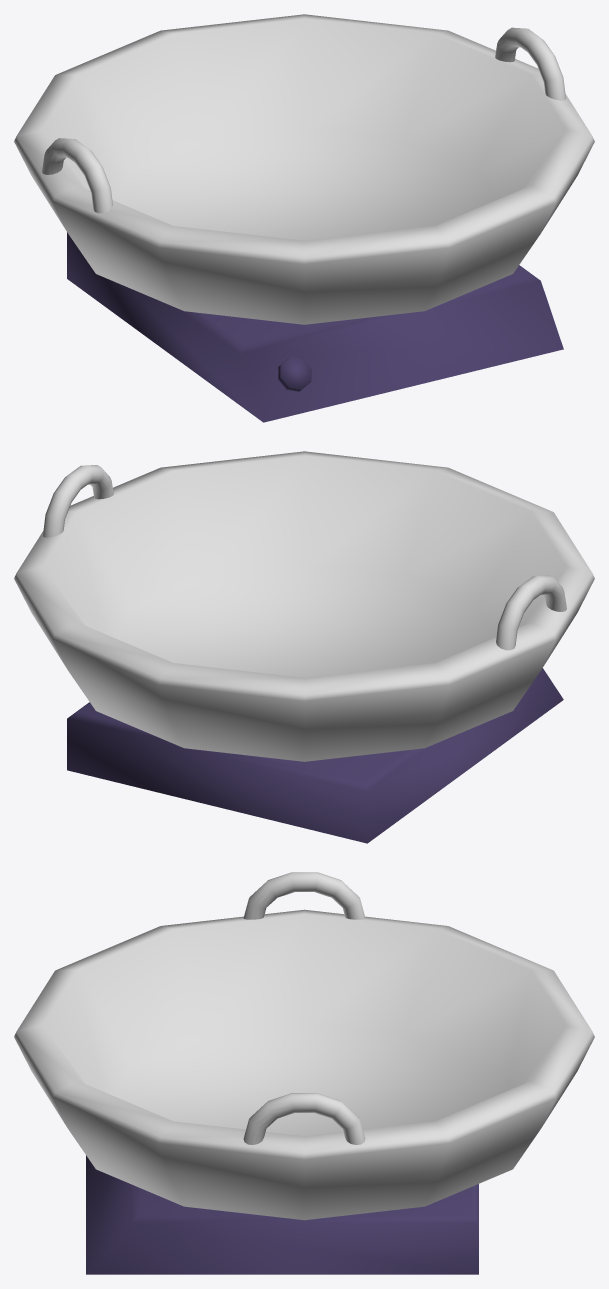
Rendered from Pan.fbx.
3 views of the same model, one above another, from view 1: azimuth 30°, elevation 25°; view 2: azimuth 150°, elevation 25°; view 3: azimuth 270°, elevation 25° (orthographic).
Visible parts, largest first — view 1: pan; view 2: pan; view 3: pan.
Part boxes in pixels (bbox=[...]): pan: bbox=[14, 14, 594, 422]; pan: bbox=[14, 451, 594, 843]; pan: bbox=[14, 872, 594, 1274].
Bounding box in the file's own units: 110 × 45.42 × 110.
